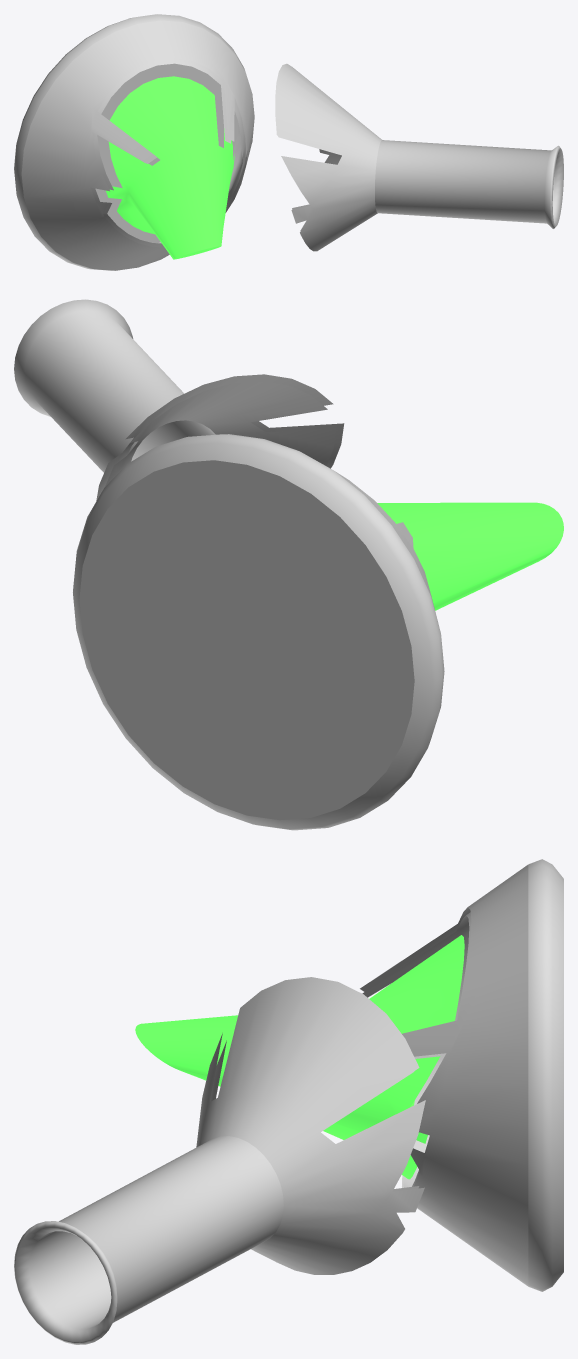
File: BROKENEVILPOSION.glb
The picture shows the model from 3 angles, top to bottom: view 1: azimuth 30°, elevation 25°; view 2: azimuth 150°, elevation 25°; view 3: azimuth 270°, elevation 25°; orthographic projection. The views are drawn at different scales.
Parts seen in each view (by area): view 1: Cylinder, Cylinder.003, Cylinder.004; view 2: Cylinder, Cylinder.003, Cylinder.004; view 3: Cylinder.003, Cylinder, Cylinder.004.
Part boxes in pixels (x1=…): Cylinder: x1=14, y1=14, x2=254, y2=270; Cylinder.003: x1=275, y1=63, x2=563, y2=251; Cylinder.004: x1=106, y1=76, x2=234, y2=259; Cylinder: x1=73, y1=434, x2=444, y2=830; Cylinder.003: x1=14, y1=299, x2=344, y2=500; Cylinder.004: x1=377, y1=502, x2=563, y2=610; Cylinder.003: x1=14, y1=977, x2=425, y2=1344; Cylinder: x1=360, y1=859, x2=563, y2=1291; Cylinder.004: x1=135, y1=935, x2=464, y2=1179.
Bounding box in the file's own units: 2.36 × 1.37 × 1.73.
